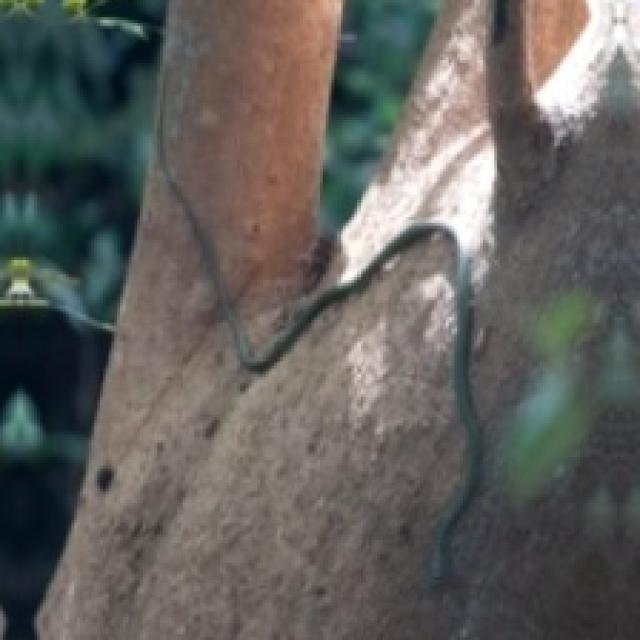paradise tree snake: (217, 217, 480, 580)
